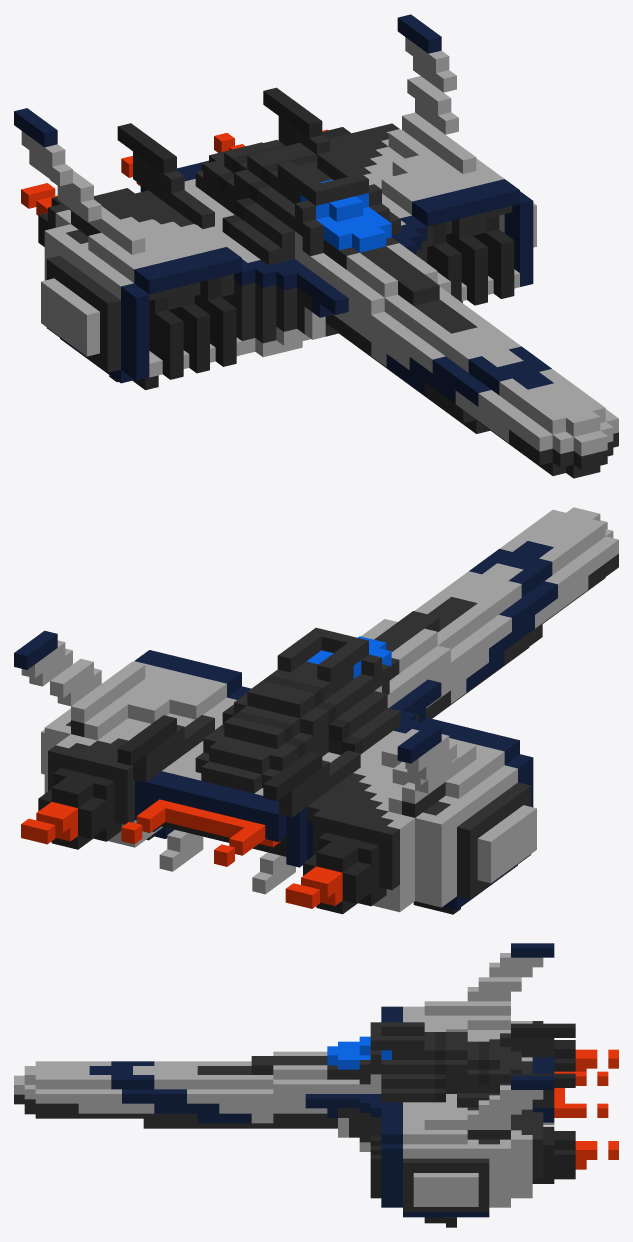
File: spaceship.glb
The picture shows the model from 3 angles, top to bottom: view 1: azimuth 30°, elevation 25°; view 2: azimuth 150°, elevation 25°; view 3: azimuth 270°, elevation 25°; orthographic projection. The views are drawn at different scales.
Visible parts, largest first — view 1: Untitled; view 2: Untitled; view 3: Untitled.
Boxes of the visible parts, left/top/right/bottom form: Untitled: left=14, top=14, right=618, bottom=478; Untitled: left=14, top=507, right=618, bottom=914; Untitled: left=14, top=943, right=618, bottom=1227.
Size of the model in its own units: 3.4 by 1.6 by 5.6.
1 material, 1 textured.
